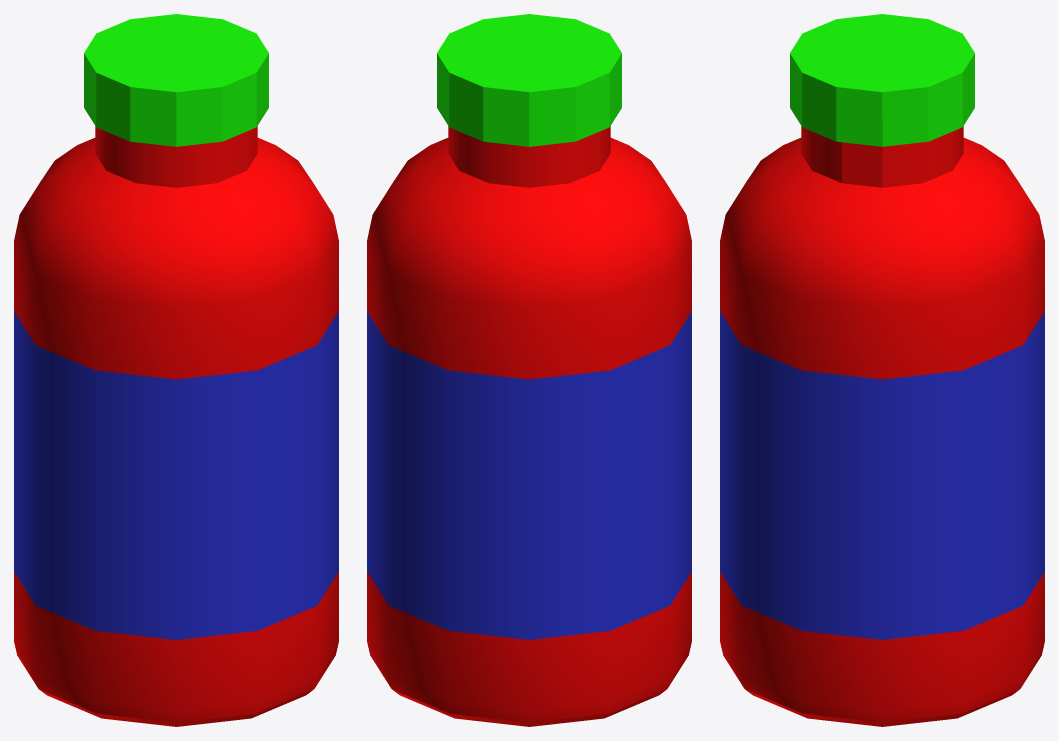
Rendered from Bottle01.fbx.
3 renders of one model, left to right at view 1: azimuth 30°, elevation 25°; view 2: azimuth 150°, elevation 25°; view 3: azimuth 270°, elevation 25°, orthographic.
Visible parts, largest first — view 1: Bottle01; view 2: Bottle01; view 3: Bottle01.
Boxes of the visible parts, bbox=[...] form: Bottle01: bbox=[14, 14, 338, 726]; Bottle01: bbox=[367, 14, 691, 726]; Bottle01: bbox=[720, 14, 1044, 726].
Size of the model in its own units: 18.42 by 38.35 by 18.42.
